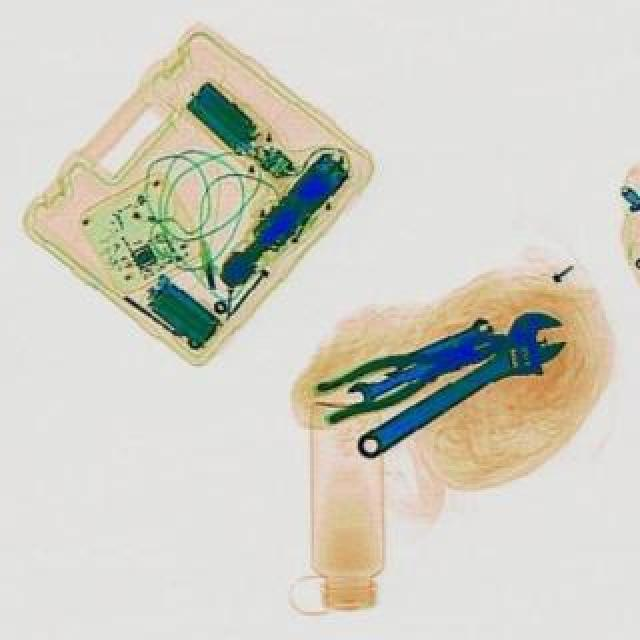scissors: (340, 298, 580, 480), (378, 310, 494, 380), (344, 352, 436, 406)
wrench: (310, 314, 514, 426)
